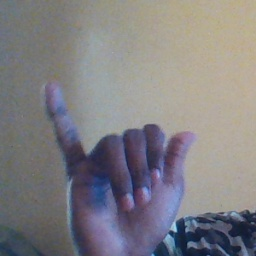J: (39, 78, 196, 250)
